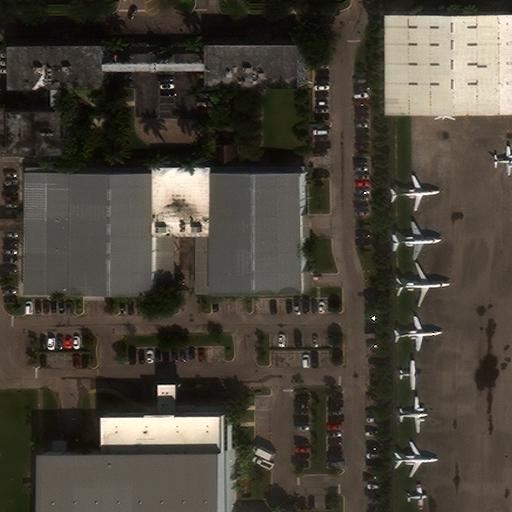Medium Civil Transport: (395, 261, 449, 307)
Small Civil Transport: (392, 220, 441, 260), (391, 174, 440, 211), (394, 315, 442, 351), (394, 440, 438, 478), (397, 396, 428, 433), (399, 359, 422, 390), (405, 483, 427, 509), (493, 145, 511, 176)
